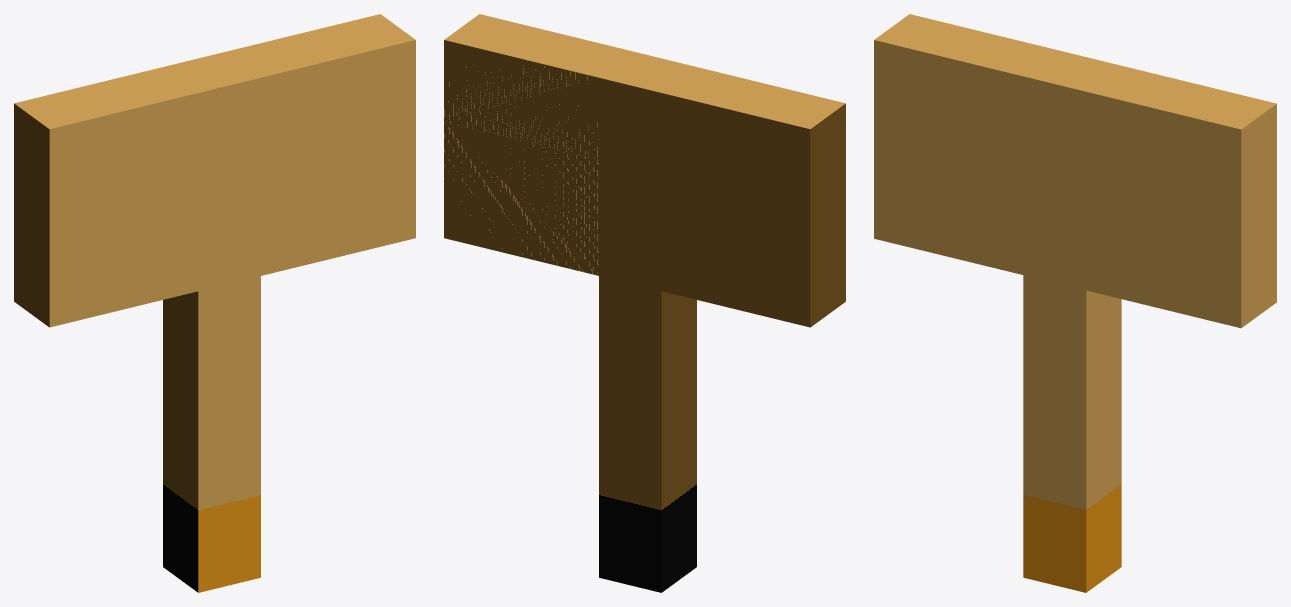
File: SignQuests.fbx
3 renders of one model, left to right at view 1: azimuth 30°, elevation 25°; view 2: azimuth 150°, elevation 25°; view 3: azimuth 330°, elevation 25°, orthographic.
Parts seen in each view (by area): view 1: Cube; view 2: Cube; view 3: Cube.
Part boxes in pixels (x1,y1,x2,y2): Cube: [14, 14, 415, 592]; Cube: [444, 14, 845, 592]; Cube: [874, 14, 1276, 592].
Bounding box in the file's own units: 464 × 605 × 77.67.
